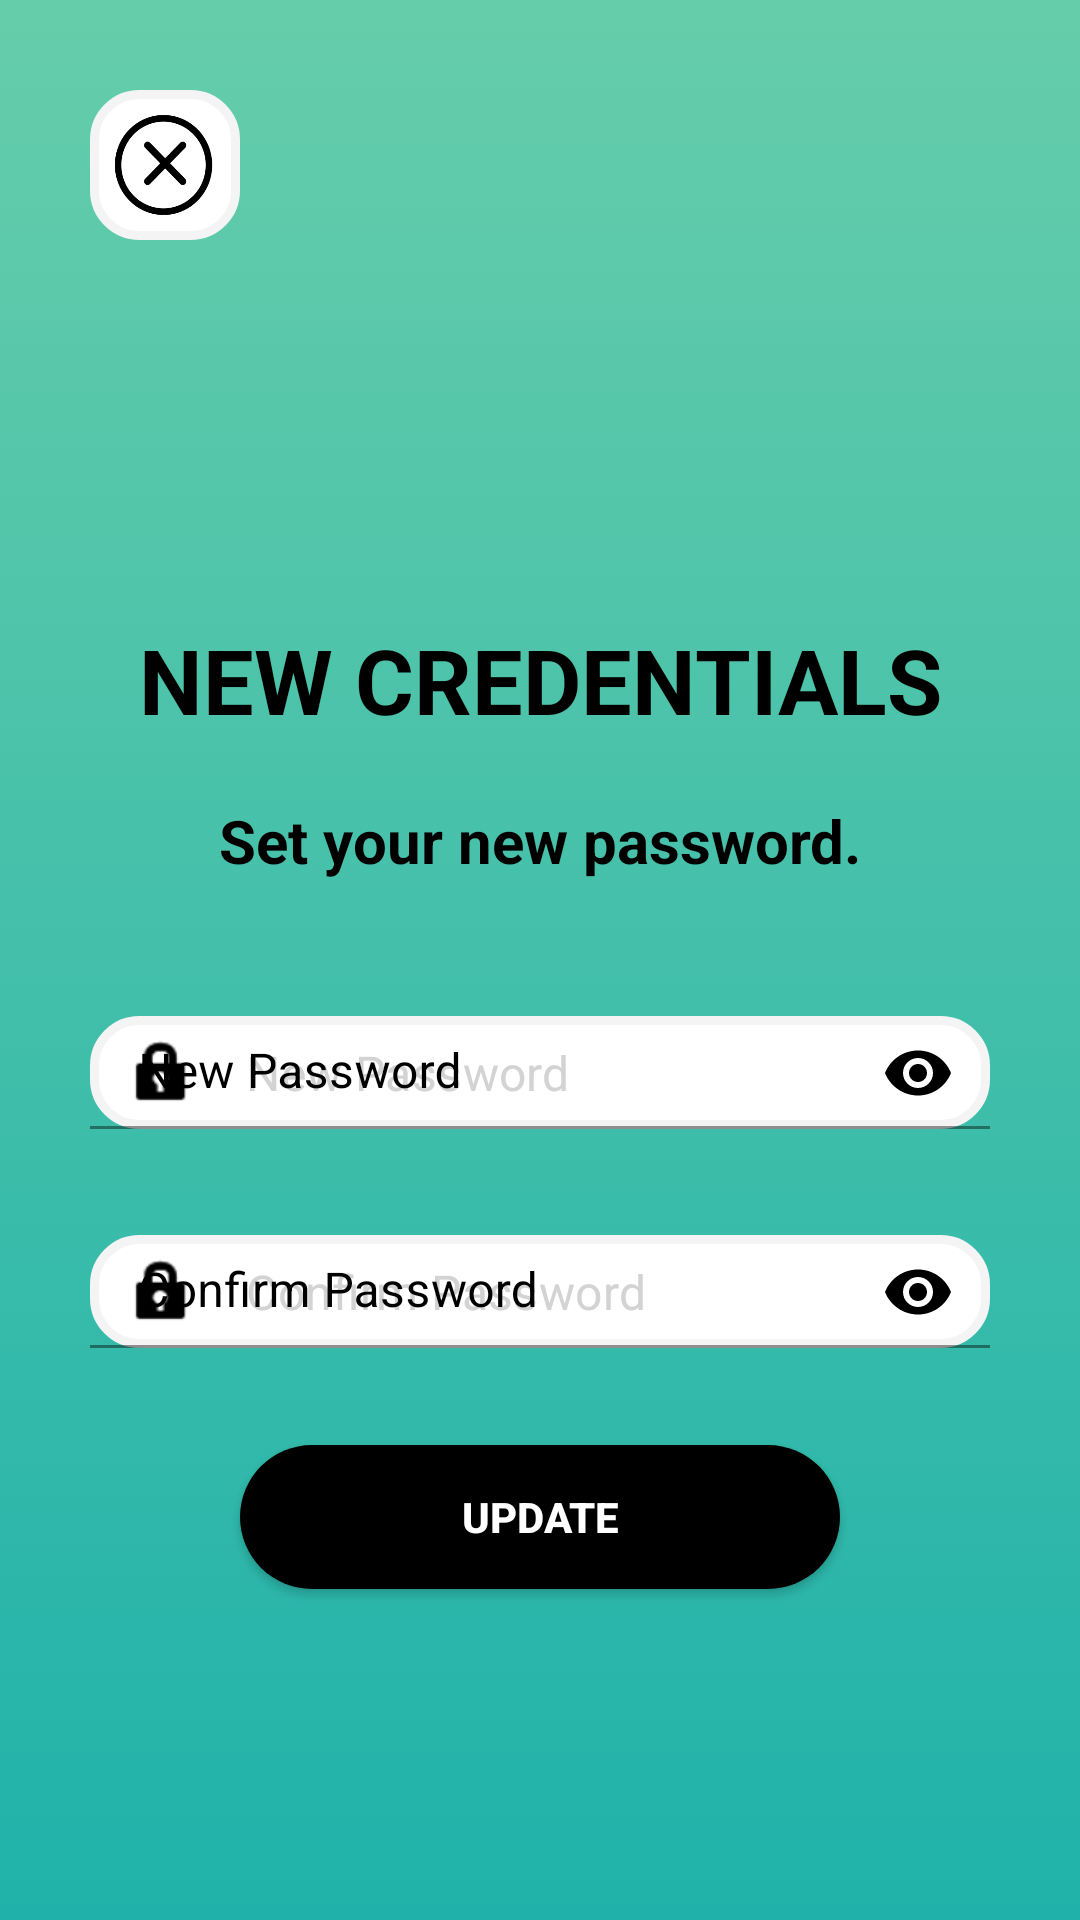

Named icons in this screenshot (1080px×1920px) and their bounding boxes, (x1, y1, x2, y2):
general close: (90, 90, 240, 240)
